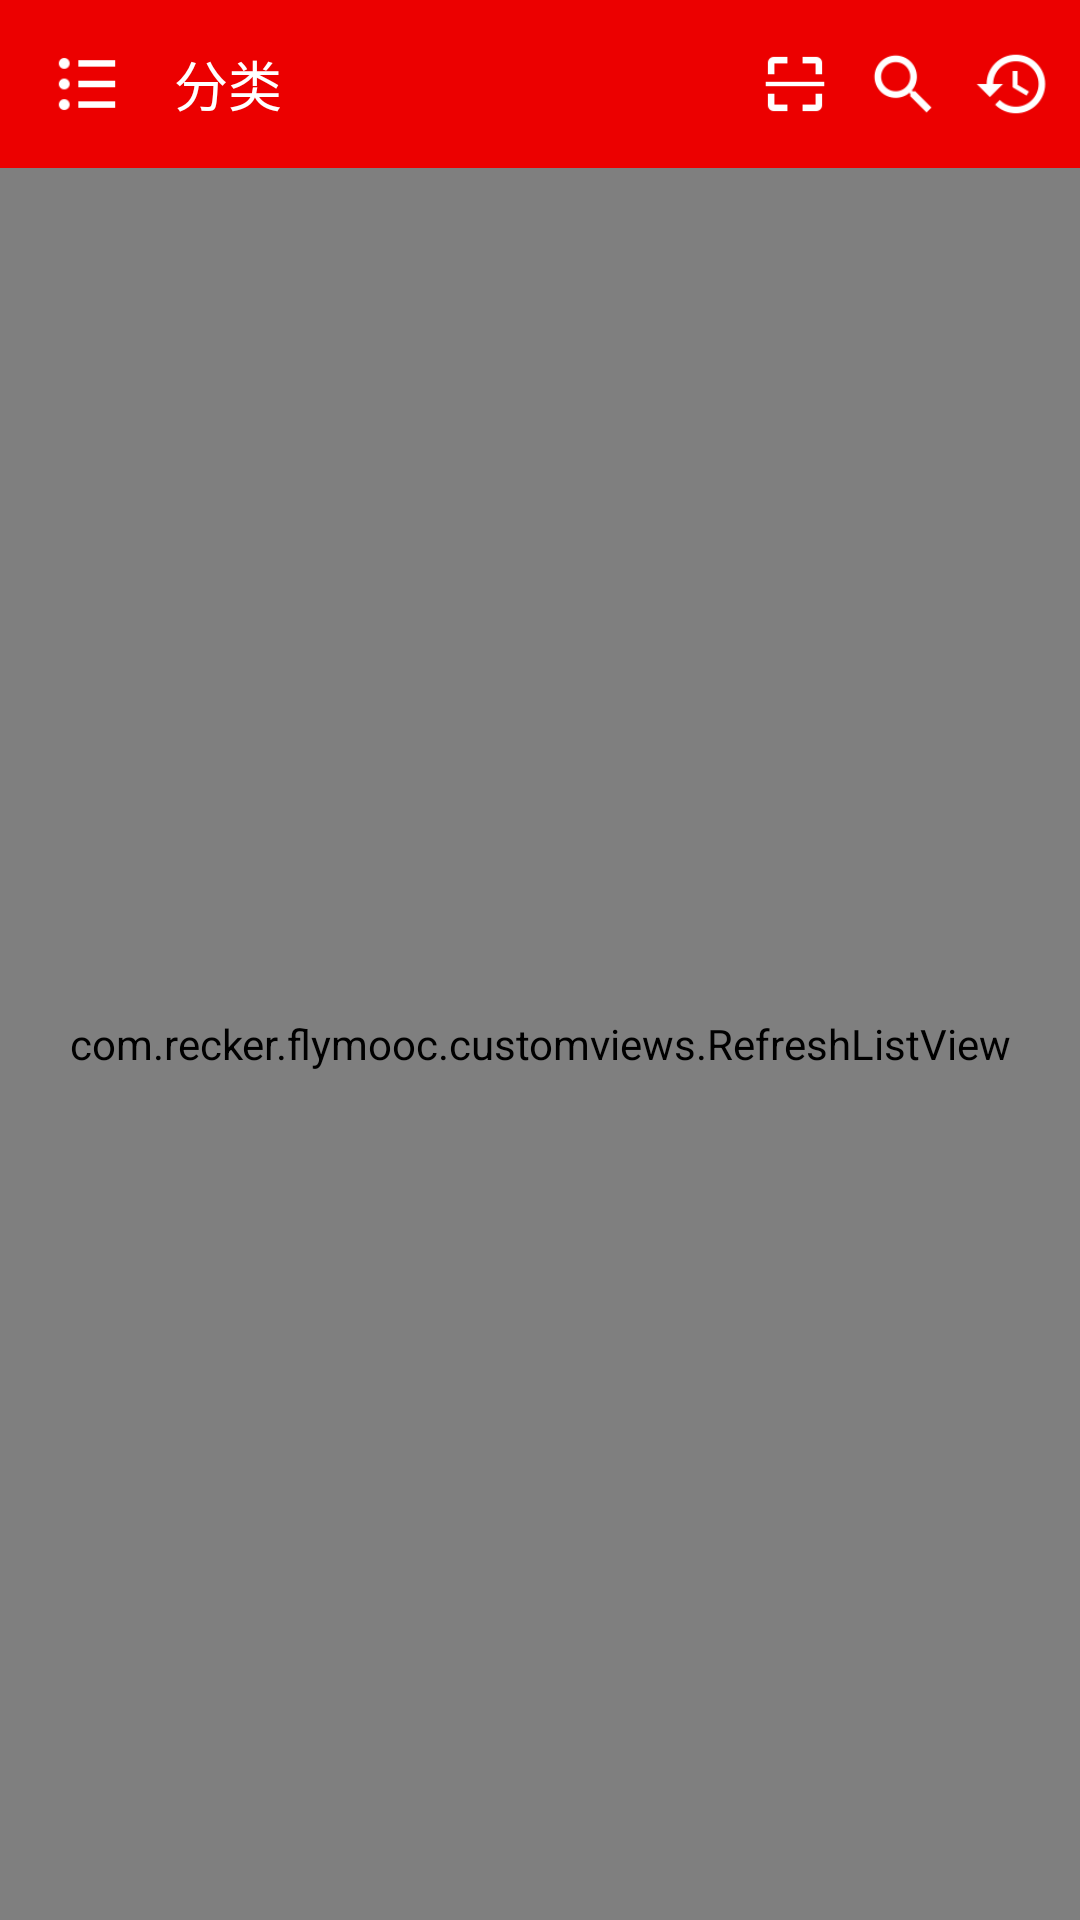

Where icons sit on this 1080*1920 app screen, as (x1, y1, x2, y2):
classify: (58, 58, 116, 110)
scan: (765, 56, 825, 112)
search: (874, 55, 932, 113)
study latest: (976, 54, 1046, 114)
